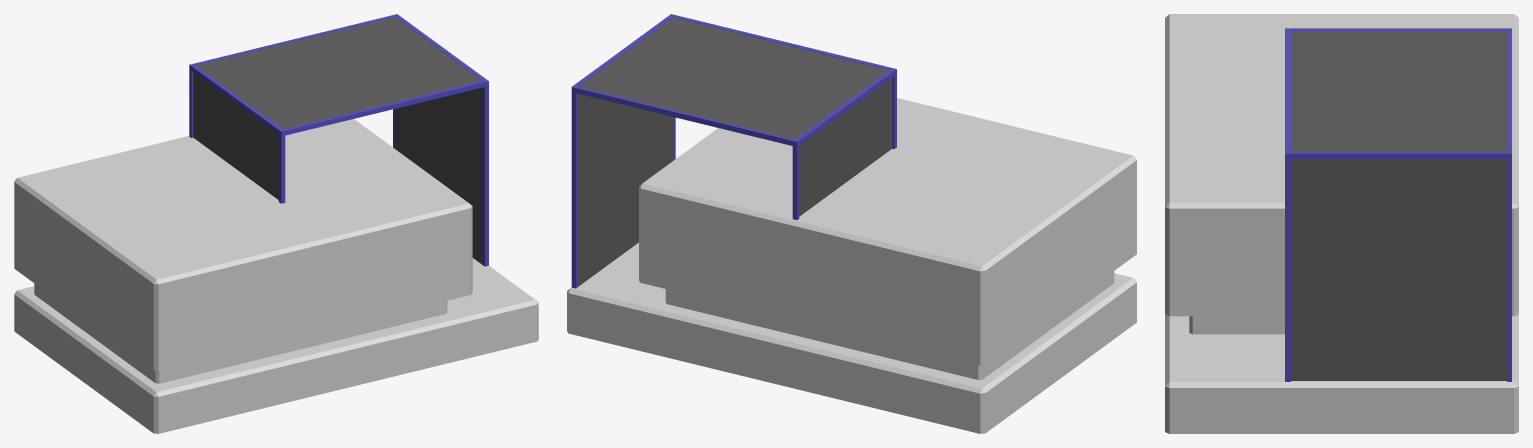
Rendered from MZDBT04BR.FBX.
3 views of the same model, side by side, from view 1: azimuth 30°, elevation 25°; view 2: azimuth 150°, elevation 25°; view 3: azimuth 270°, elevation 25° (orthographic). The views are drawn at different scales.
Visible parts, largest first — view 1: MZDBT04BR; view 2: MZDBT04BR; view 3: MZDBT04BR.
Boxes of the visible parts, <box> form: MZDBT04BR: <box>14,14,538,433</box>; MZDBT04BR: <box>567,14,1136,433</box>; MZDBT04BR: <box>1165,14,1518,433</box>.
Size of the model in its own units: 70 by 45 by 39.97.
